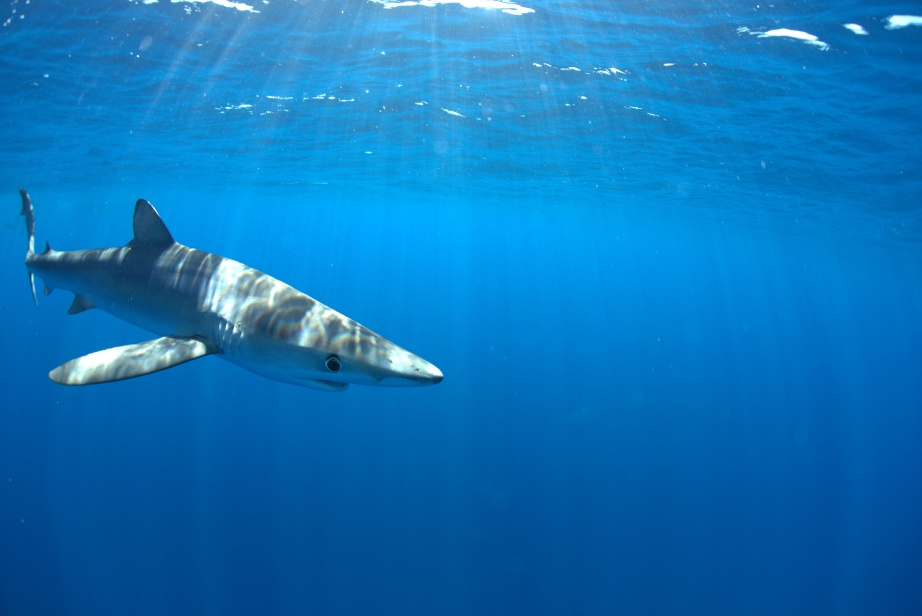Azul: (8, 178, 447, 420)
